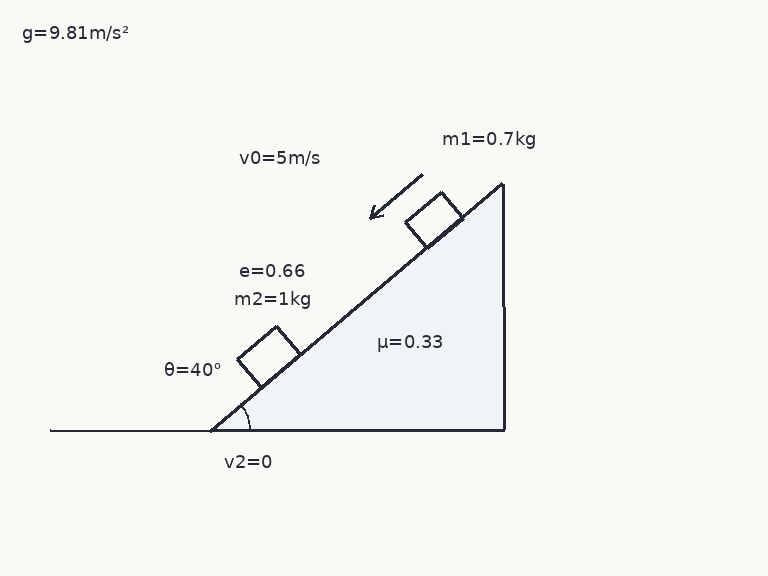block: (235, 324, 302, 389), (403, 190, 465, 250)
ramp: (208, 182, 505, 432)
